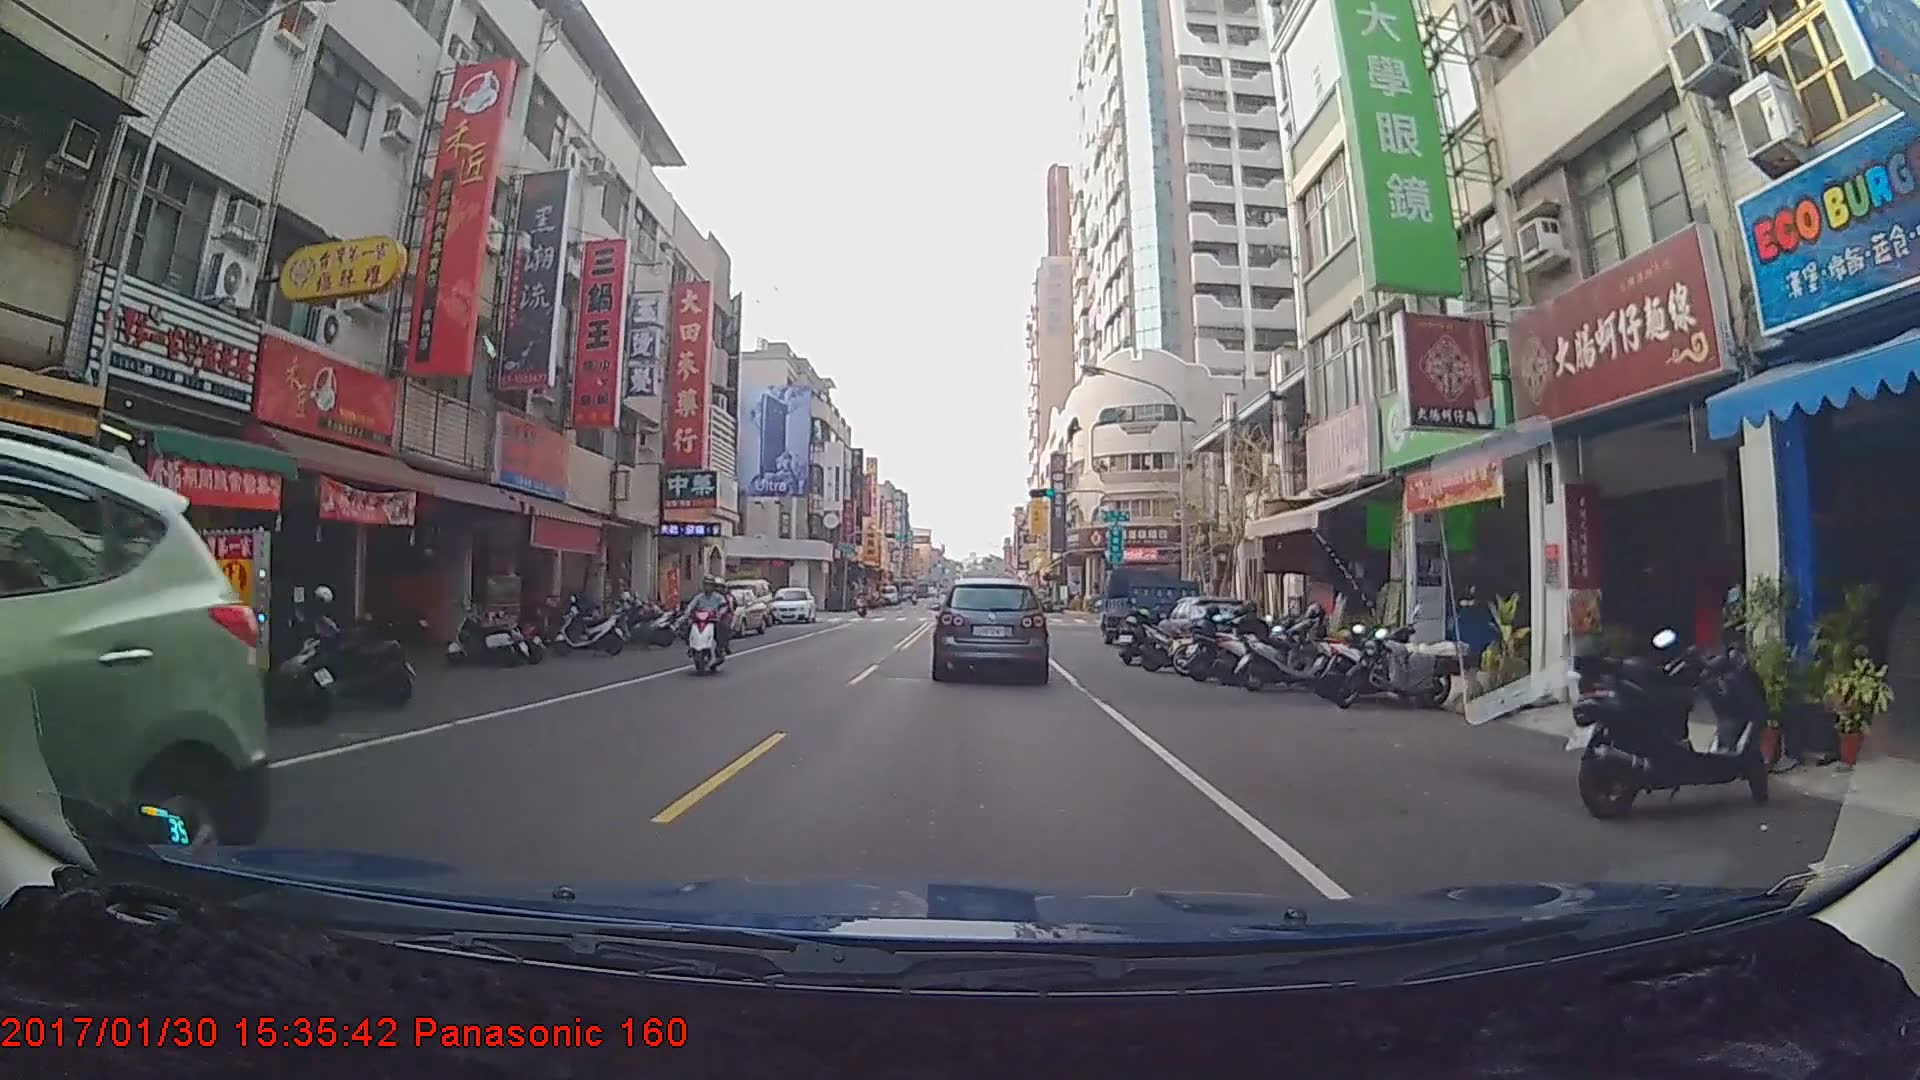rider: (682, 573, 739, 679)
vehicle: (0, 437, 256, 908), (933, 576, 1047, 680), (1097, 563, 1203, 647), (684, 585, 768, 638), (766, 586, 815, 627)
